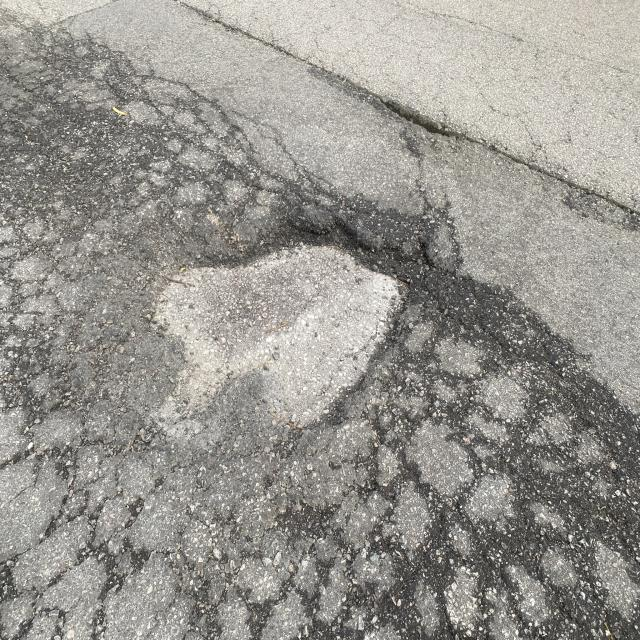pothole: (209, 158, 440, 350), (370, 70, 463, 170)
